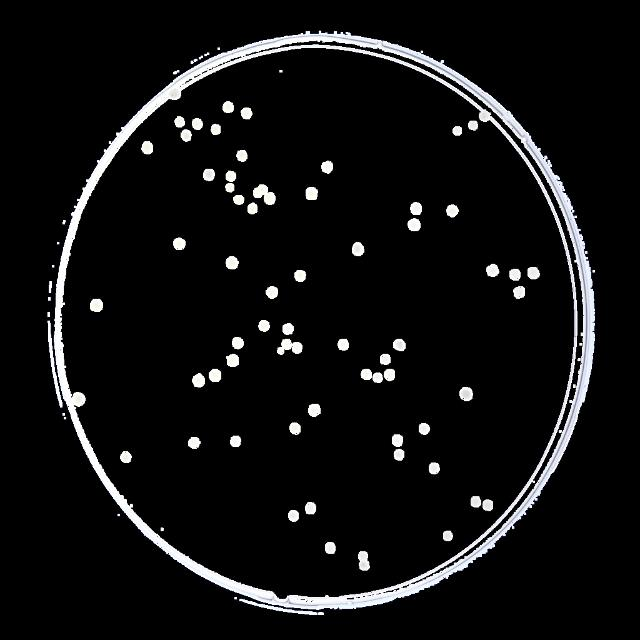colony: (477, 106, 493, 124), (224, 254, 240, 270), (88, 298, 104, 314), (70, 392, 86, 408), (224, 352, 240, 368), (306, 402, 322, 418), (526, 265, 542, 281), (458, 386, 474, 402), (172, 234, 186, 252), (192, 371, 206, 389), (390, 338, 408, 352), (208, 123, 224, 137), (262, 192, 278, 206), (304, 186, 320, 200), (186, 436, 202, 450), (292, 269, 306, 285), (208, 368, 222, 384), (406, 218, 422, 232), (410, 200, 424, 216), (304, 501, 318, 517), (190, 116, 203, 132), (291, 339, 303, 356), (168, 87, 182, 101), (140, 141, 154, 155), (320, 160, 334, 174), (119, 450, 133, 464), (265, 285, 279, 299), (231, 336, 245, 350), (288, 422, 302, 436), (378, 352, 392, 366), (508, 268, 522, 282), (486, 263, 500, 277), (180, 128, 192, 144), (352, 241, 364, 257), (482, 498, 494, 514), (356, 560, 372, 572), (336, 338, 349, 352), (446, 204, 459, 218), (391, 434, 404, 448), (222, 100, 234, 114), (241, 106, 253, 120), (203, 168, 215, 182), (236, 149, 248, 163), (229, 435, 241, 449), (258, 319, 270, 333), (281, 338, 293, 352), (384, 368, 396, 382), (513, 286, 525, 300), (418, 422, 430, 436), (393, 448, 405, 462), (428, 462, 440, 476), (356, 550, 370, 562), (324, 541, 336, 555), (225, 170, 238, 182), (247, 202, 259, 215), (288, 511, 300, 524), (361, 368, 372, 382), (224, 182, 236, 194), (233, 194, 245, 206), (257, 183, 269, 195), (282, 324, 294, 336), (470, 496, 482, 508), (173, 115, 184, 128), (252, 186, 262, 200), (372, 372, 383, 384), (442, 530, 453, 542), (468, 120, 478, 132), (452, 125, 462, 136), (276, 346, 286, 356)
